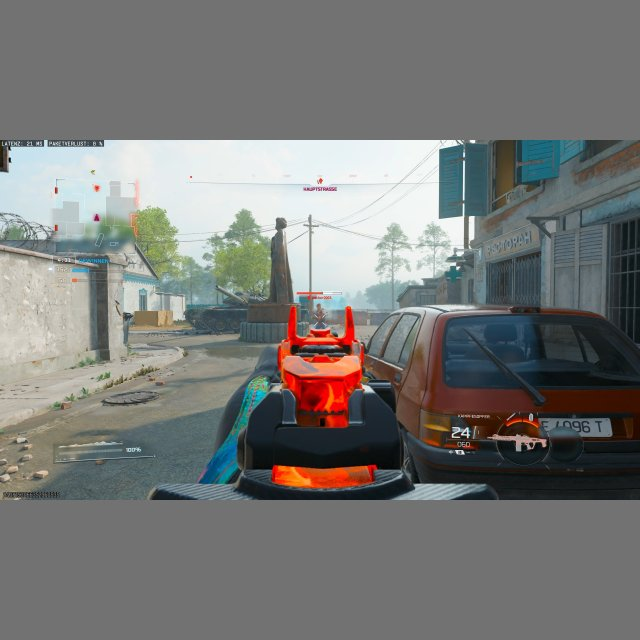player: (312, 304, 327, 330)
